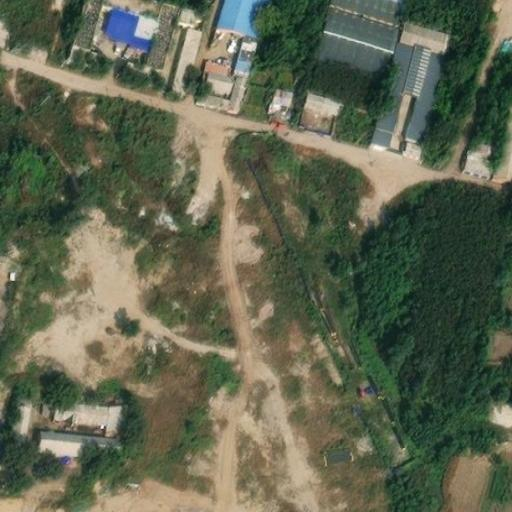building: (372, 36, 416, 138), (321, 2, 401, 49), (314, 30, 393, 73), (411, 46, 448, 132), (35, 421, 117, 455), (171, 20, 203, 87), (198, 65, 248, 107), (105, 3, 155, 42), (71, 393, 123, 429), (401, 15, 450, 48), (67, 0, 99, 48), (404, 42, 432, 89), (328, 0, 397, 18), (305, 84, 343, 112), (9, 397, 33, 438), (461, 144, 495, 171), (204, 65, 235, 94), (265, 83, 293, 112), (396, 135, 424, 160), (134, 10, 160, 33), (202, 49, 231, 69), (233, 42, 254, 68), (240, 25, 261, 46)
